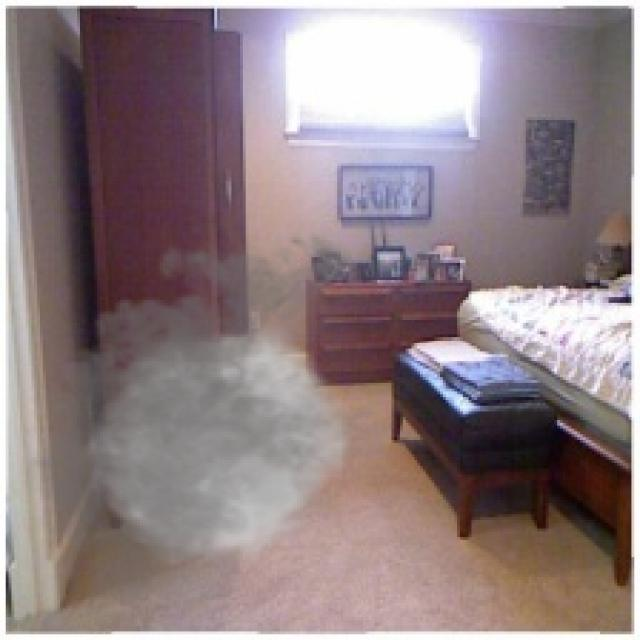Smoke: (8, 220, 423, 623)
